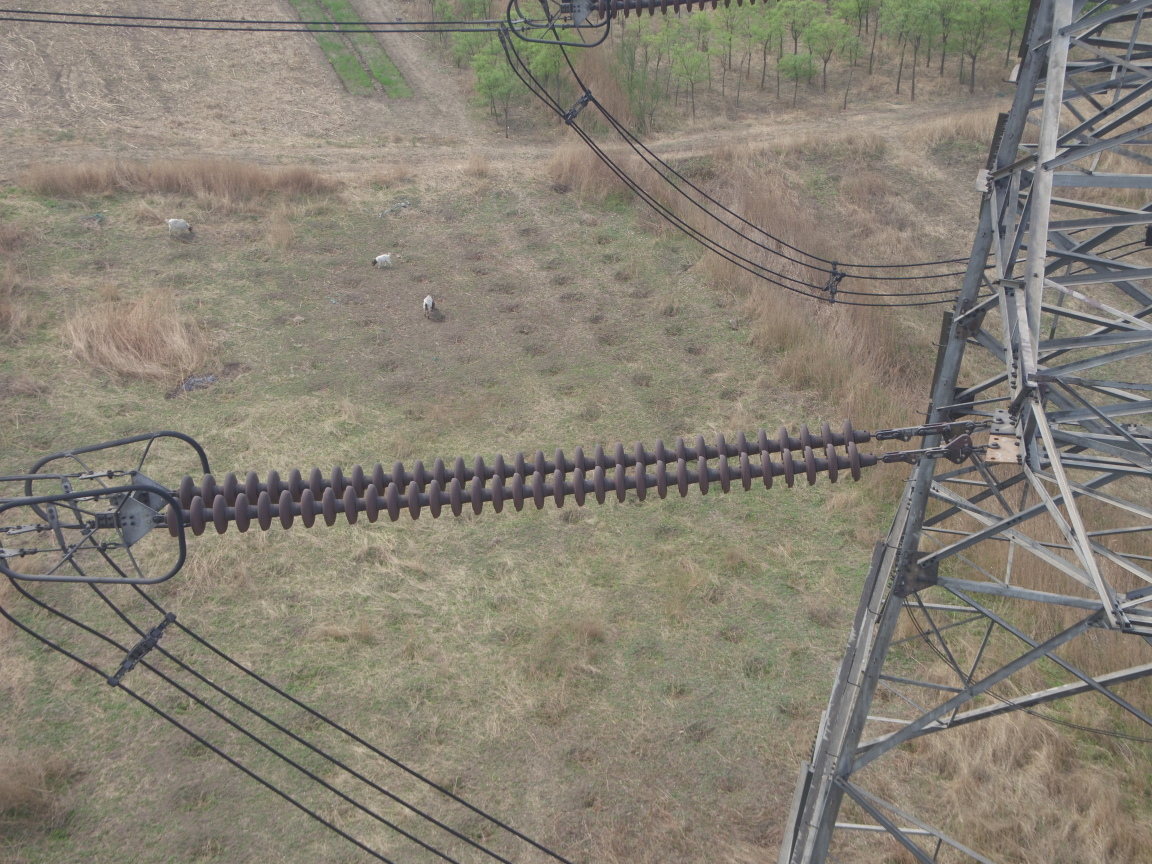insulator: (133, 412, 932, 543)
